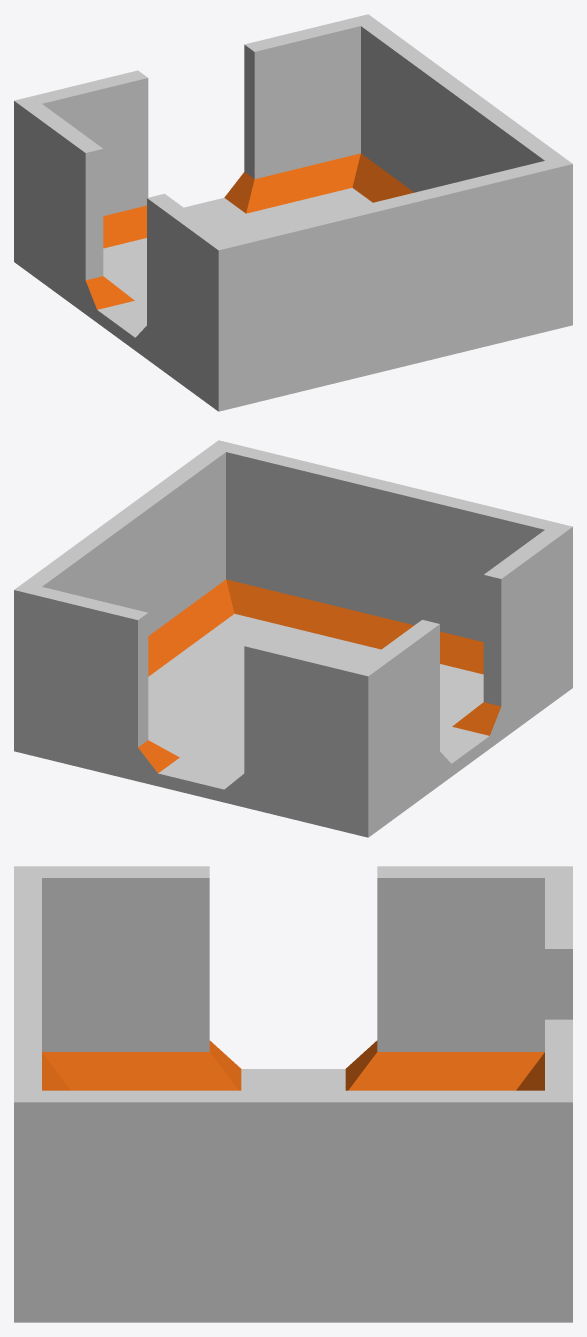
The picture shows the model from 3 angles, top to bottom: view 1: azimuth 30°, elevation 25°; view 2: azimuth 150°, elevation 25°; view 3: azimuth 270°, elevation 25°; orthographic projection. The views are drawn at different scales.
Parts seen in each view (by area): view 1: Плоскость.003; view 2: Плоскость.003; view 3: Плоскость.003.
Part boxes in pixels (x1,y1,x2,y2): Плоскость.003: (14, 14, 572, 411); Плоскость.003: (14, 440, 572, 837); Плоскость.003: (14, 866, 572, 1322).
Size of the model in its own units: 200 by 87 by 200.
